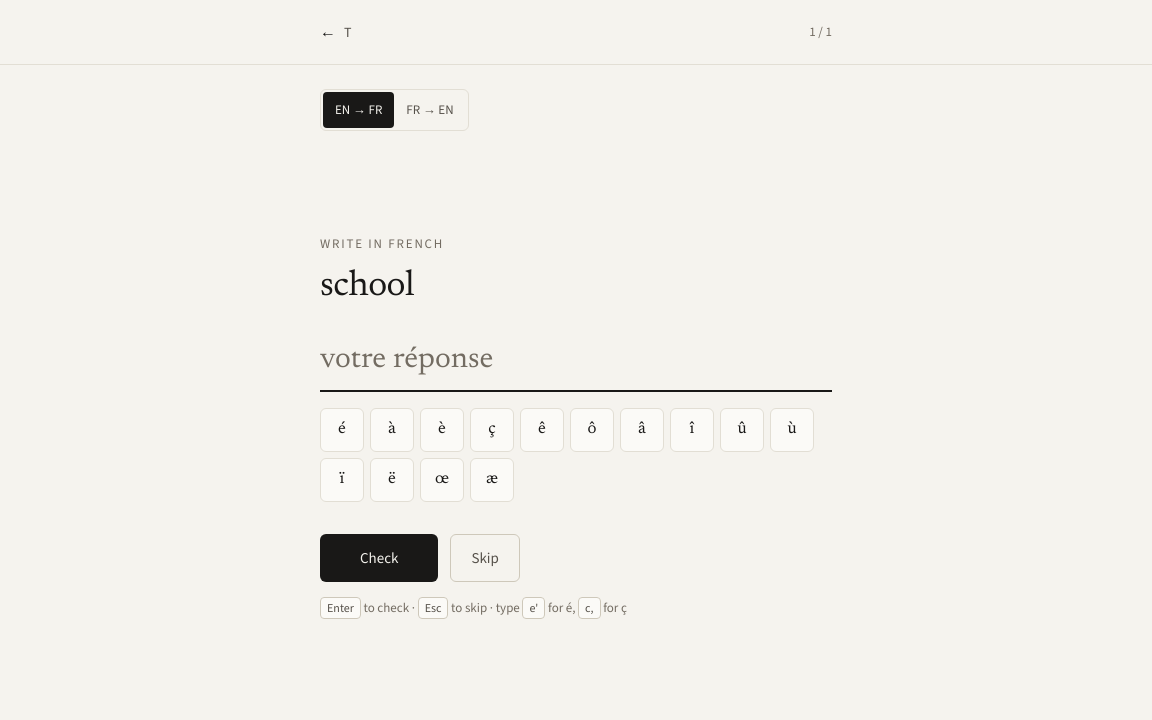
accent bar › typing a bare answer then tapping an accent completes it
This screenshot has width=1152, height=720.
Type "l'ecole" into the field named "answer in french" at {"x": 576, "y": 367}, box [320, 342, 832, 392]
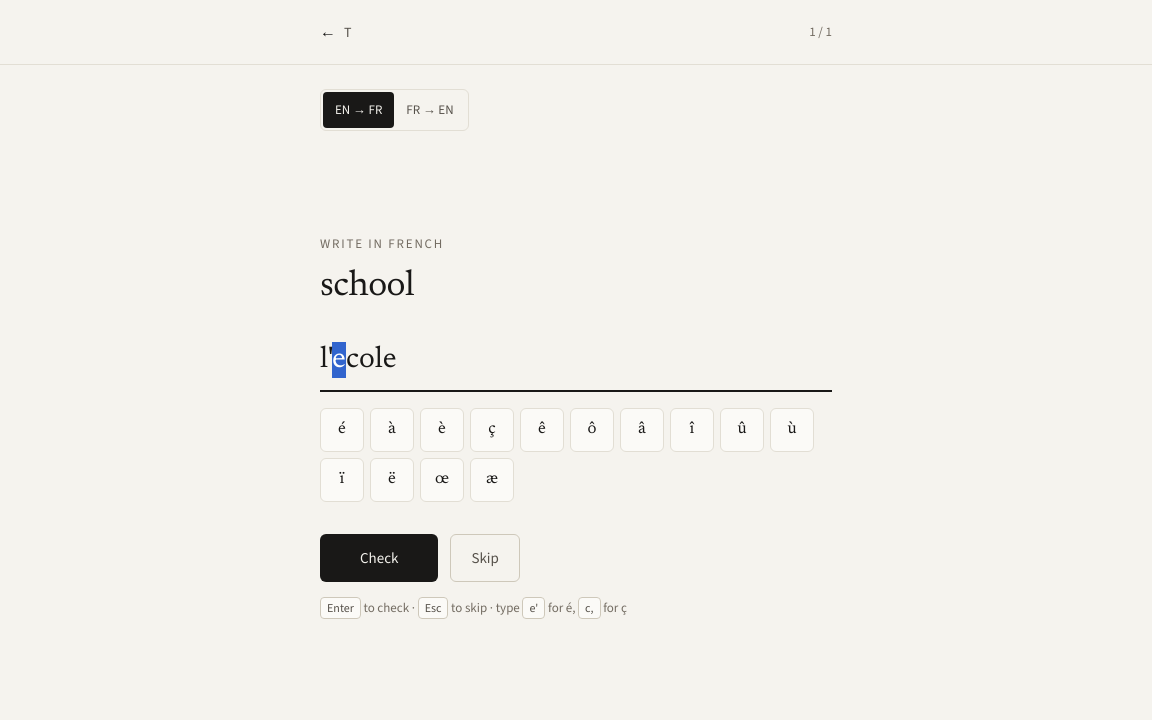
Click the button named "Insert é" at {"x": 342, "y": 430}, box [320, 408, 364, 452]
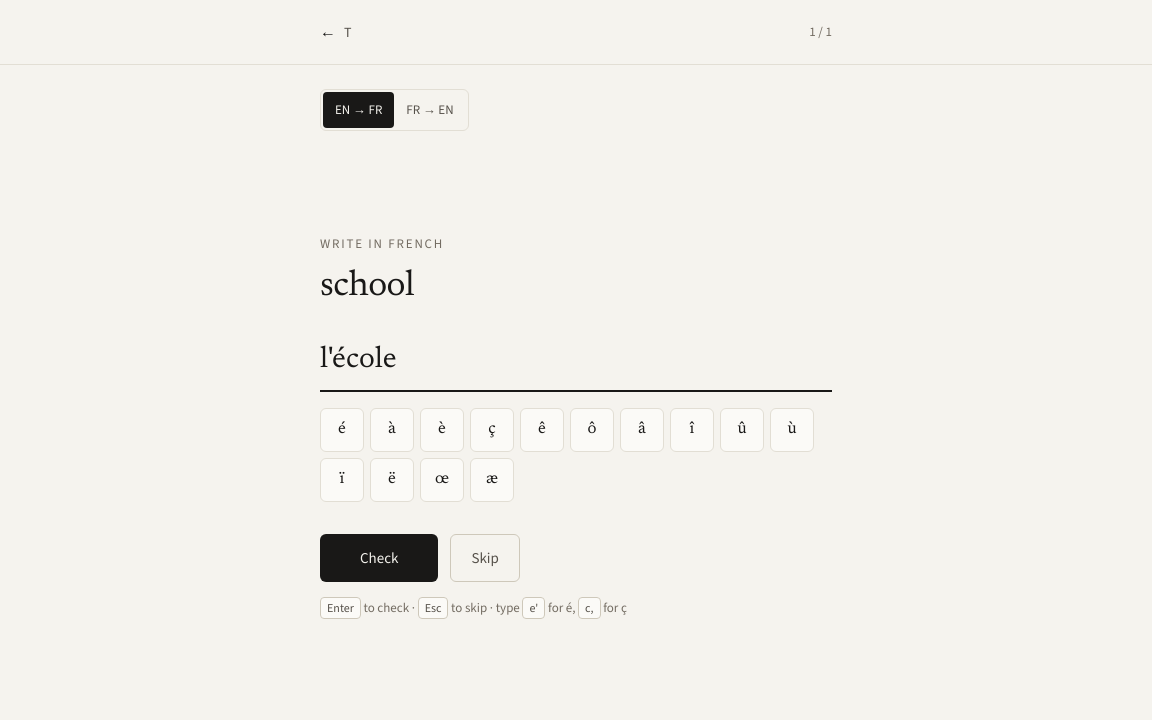
expect the field named "answer in french" holds "l'école": met, box [320, 342, 832, 392]
Click the button "Check" at {"x": 379, "y": 558}, box [320, 534, 438, 582]
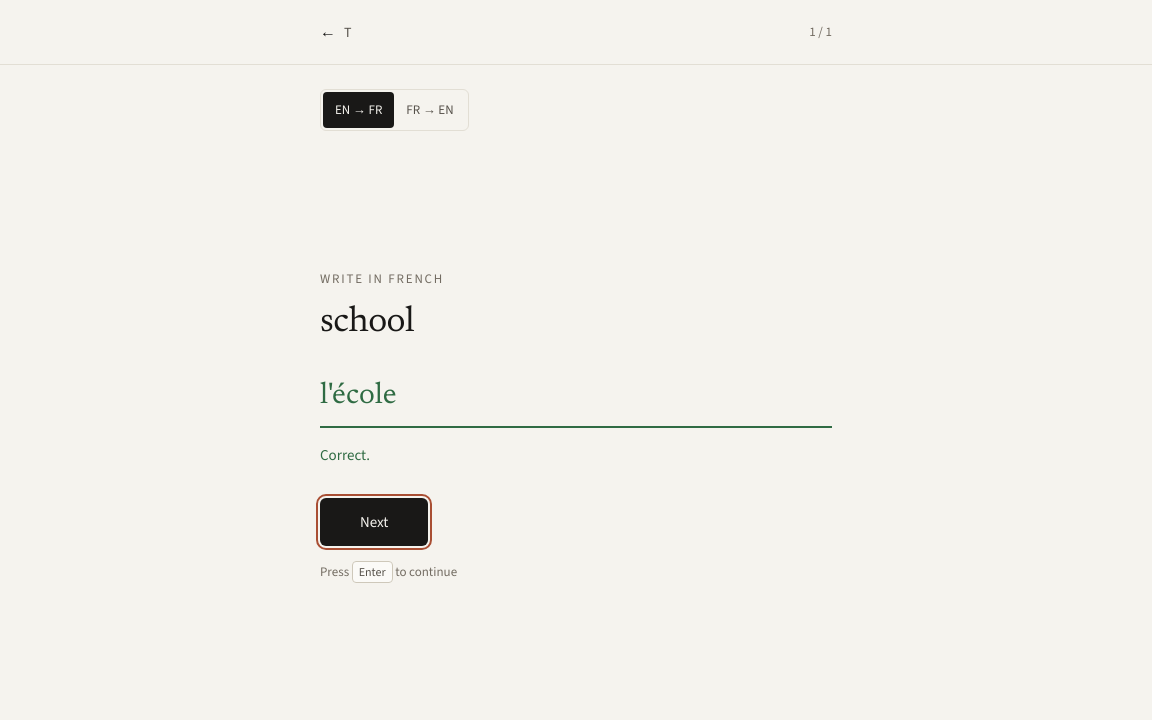
expect the text "Correct." is shown: met, box [320, 445, 370, 465]
